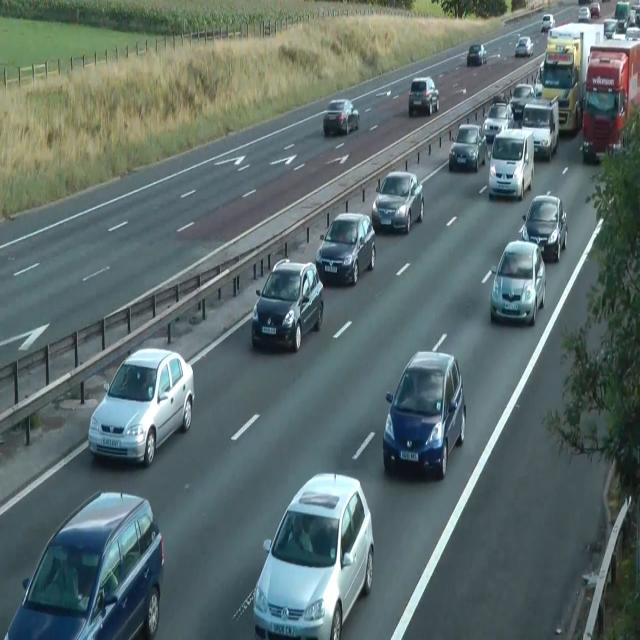bus: (88, 347, 194, 468), (315, 212, 375, 286), (518, 193, 568, 262), (372, 170, 424, 234), (449, 124, 487, 172), (322, 99, 360, 137), (482, 101, 514, 142), (408, 76, 439, 116), (509, 83, 535, 119), (467, 44, 487, 66), (514, 35, 534, 57), (534, 60, 544, 97), (611, 19, 627, 40), (604, 18, 618, 39), (541, 13, 555, 33), (624, 26, 640, 41), (577, 6, 591, 22), (589, 1, 600, 18), (492, 92, 506, 104), (628, 8, 636, 26)
jeep: (4, 489, 164, 638), (252, 470, 374, 638), (382, 349, 466, 479), (250, 257, 324, 352), (490, 238, 546, 326), (488, 126, 534, 199), (520, 94, 560, 160)
minibus: (580, 38, 640, 162), (540, 22, 604, 134)
